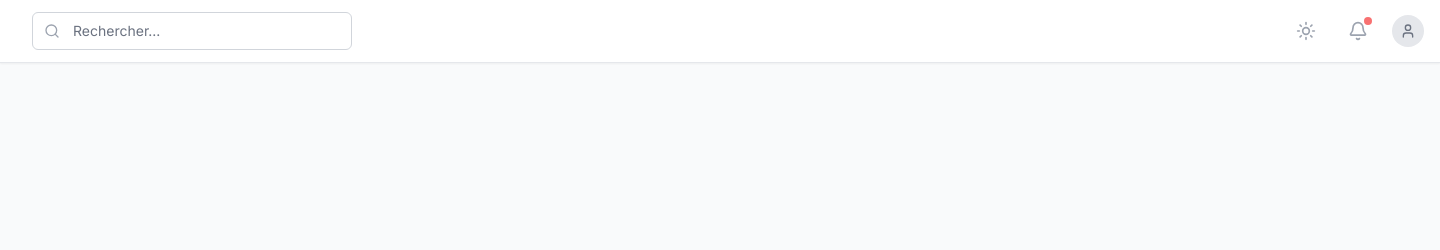
Test: Header › Profile Dropdown › closes profile dropdown when logout is clicked
Click the 3rd button: (1408, 31) left=1392, top=15, right=1424, bottom=47
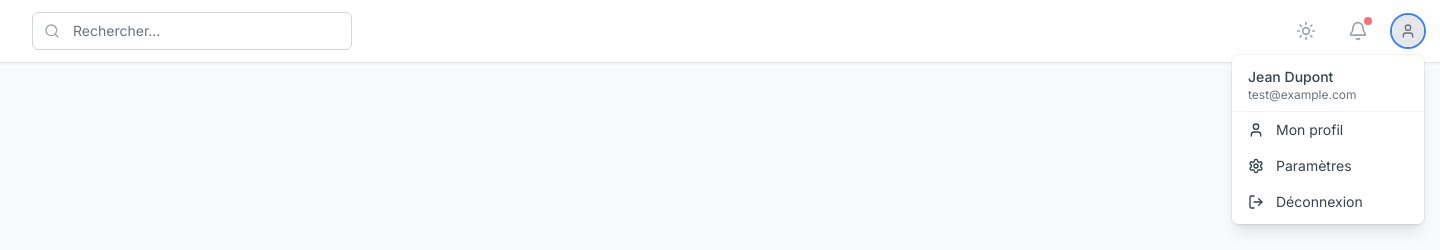
Click the button "Déconnexion": (1328, 202) left=1232, top=184, right=1424, bottom=220
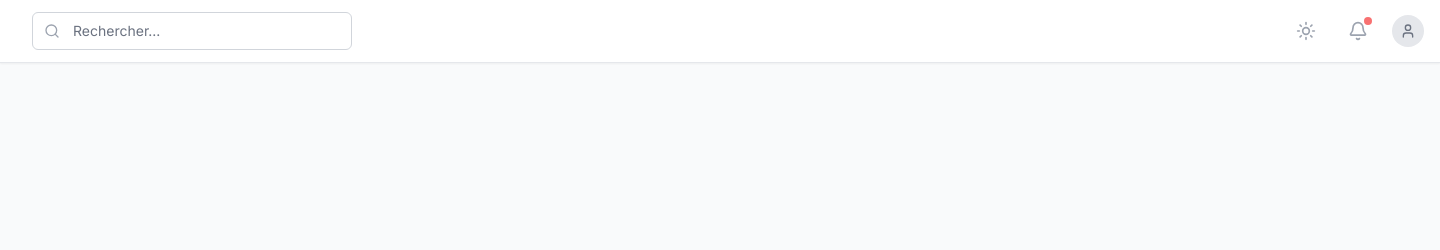
Expected: the link "Mon profil" is gone
